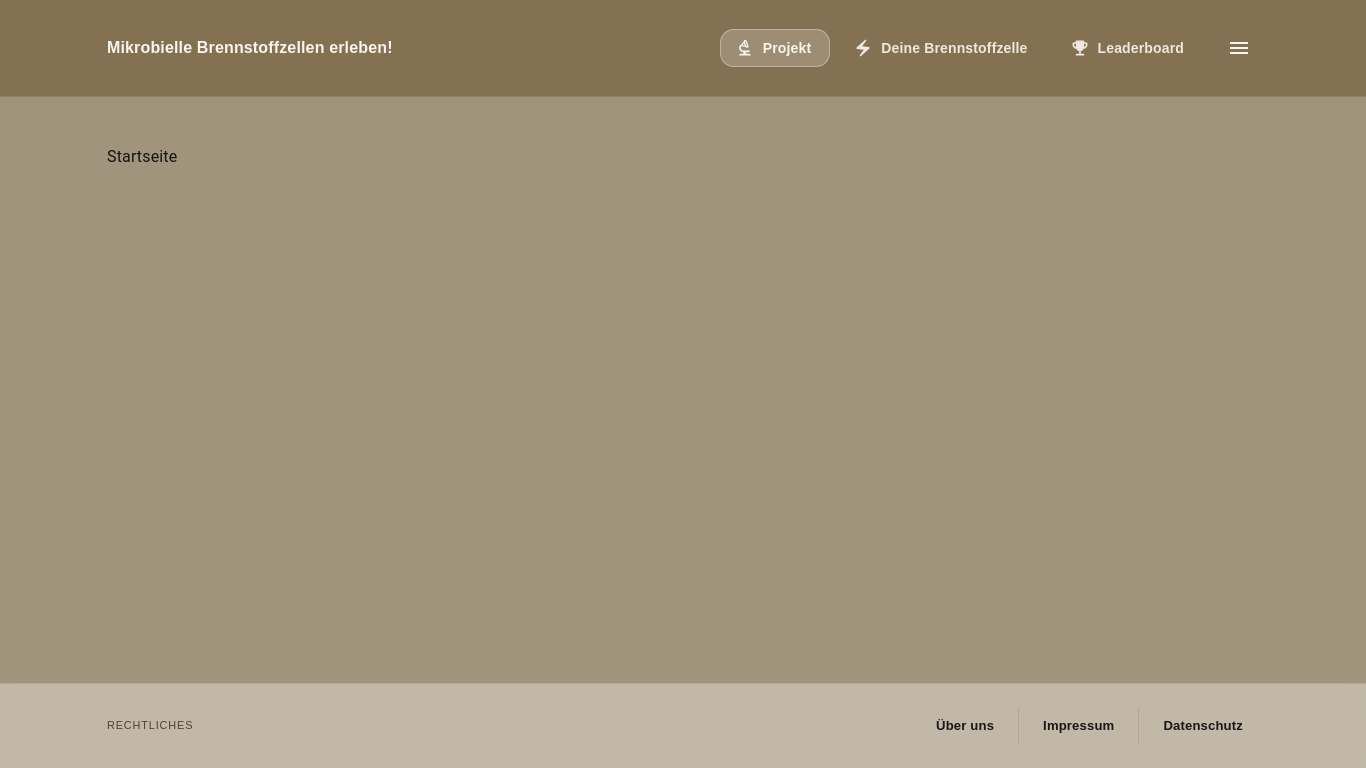
Scenario: AppShell › shows the login action inside the mobile navigation menu
Check: the button "anmelden" is not shown
Click the button named "navigation öffnen": (1239, 48) top-left (1219, 28), bottom-right (1259, 68)
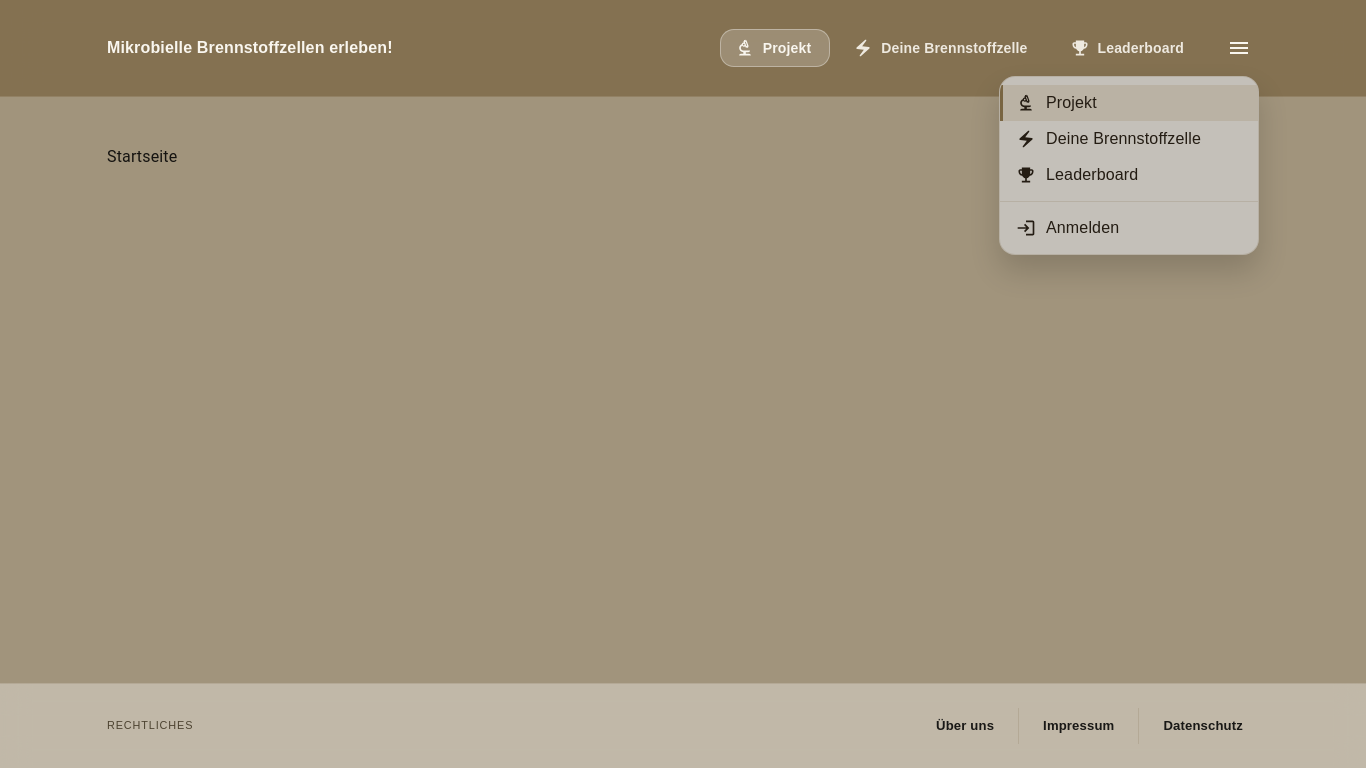
Click the menu item "Anmelden": (1068, 228) top-left (1016, 218), bottom-right (1119, 238)
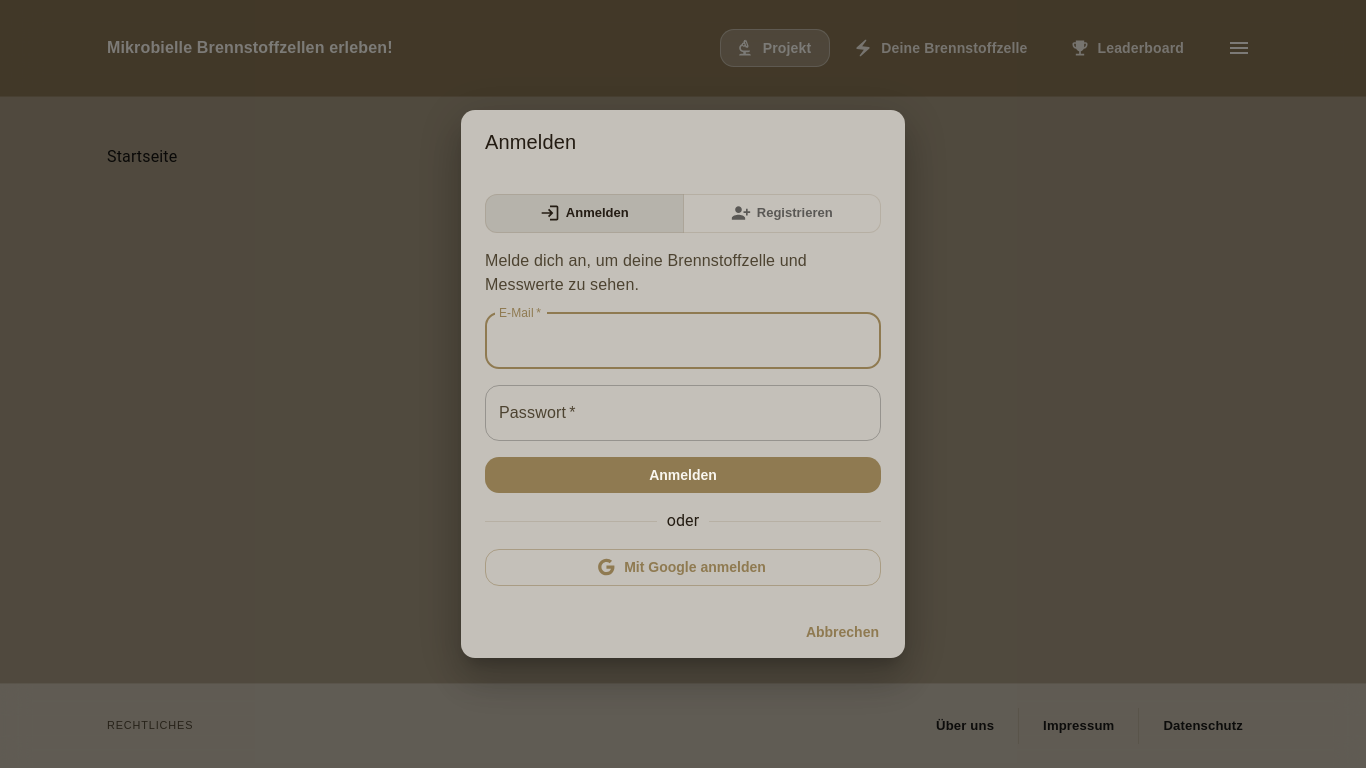
Check: the dialog "Anmelden" is shown, box top-left (461, 110), bottom-right (905, 658)
